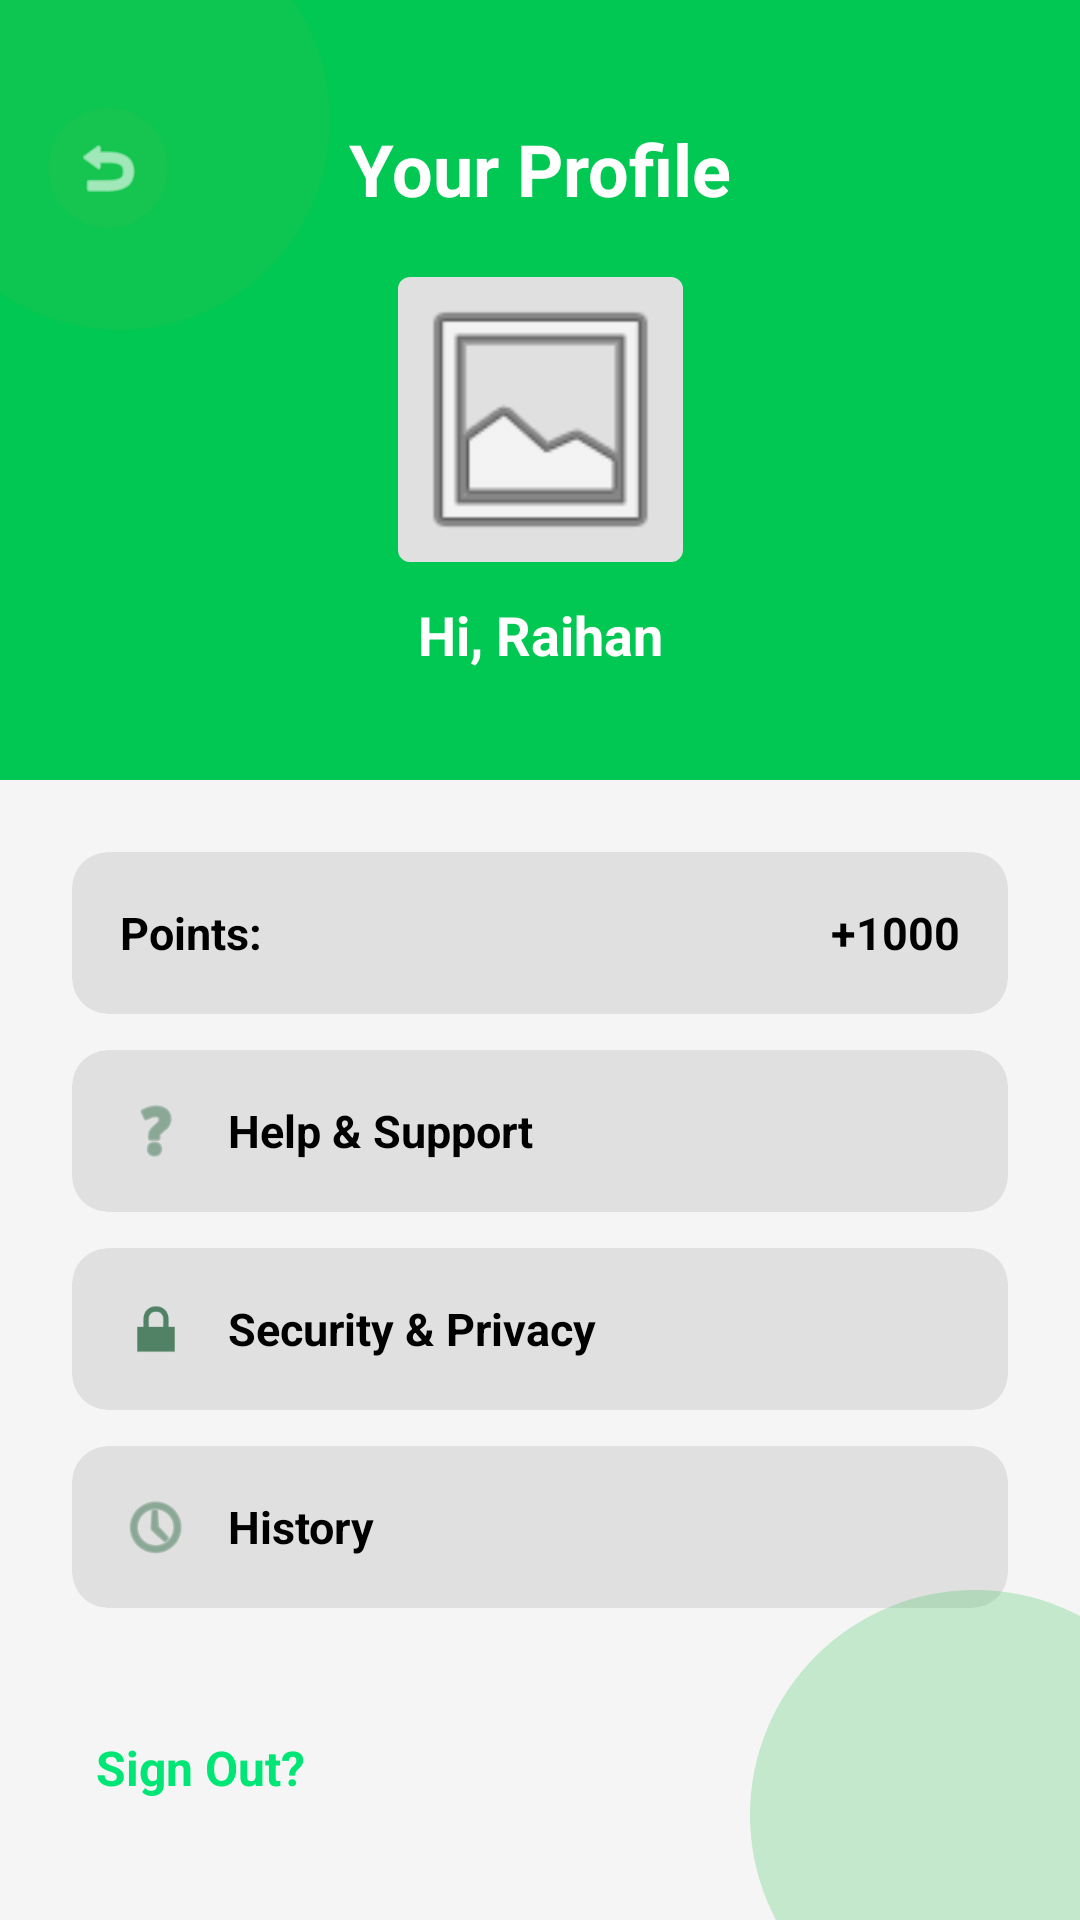

Point at icon controls on the screen. Image size 1080 × 1920, points as point (x, y).
gallery: point (540, 419)
lock: point (156, 1329)
revert: point (109, 168)
